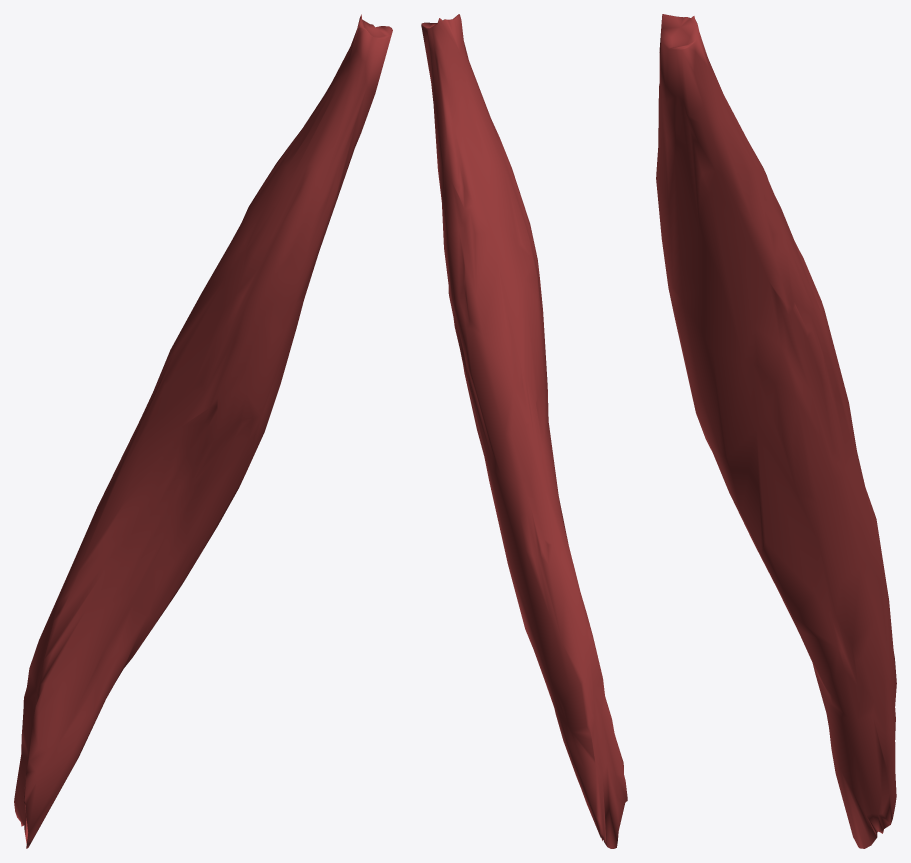
File: coracobrachialis-muscle-r.glb
The picture shows the model from 3 angles, left to right: view 1: azimuth 30°, elevation 25°; view 2: azimuth 150°, elevation 25°; view 3: azimuth 270°, elevation 25°; orthographic projection. The views are drawn at different scales.
Visible parts, largest first — view 1: Coracobrachialis muscle.r; view 2: Coracobrachialis muscle.r; view 3: Coracobrachialis muscle.r.
Part boxes in pixels (left/top/right/bottom): Coracobrachialis muscle.r: left=14, top=14, right=392, bottom=848; Coracobrachialis muscle.r: left=421, top=14, right=627, bottom=848; Coracobrachialis muscle.r: left=656, top=14, right=896, bottom=848.
Bounding box in the file's own units: 0.0608 × 0.1587 × 0.035.
